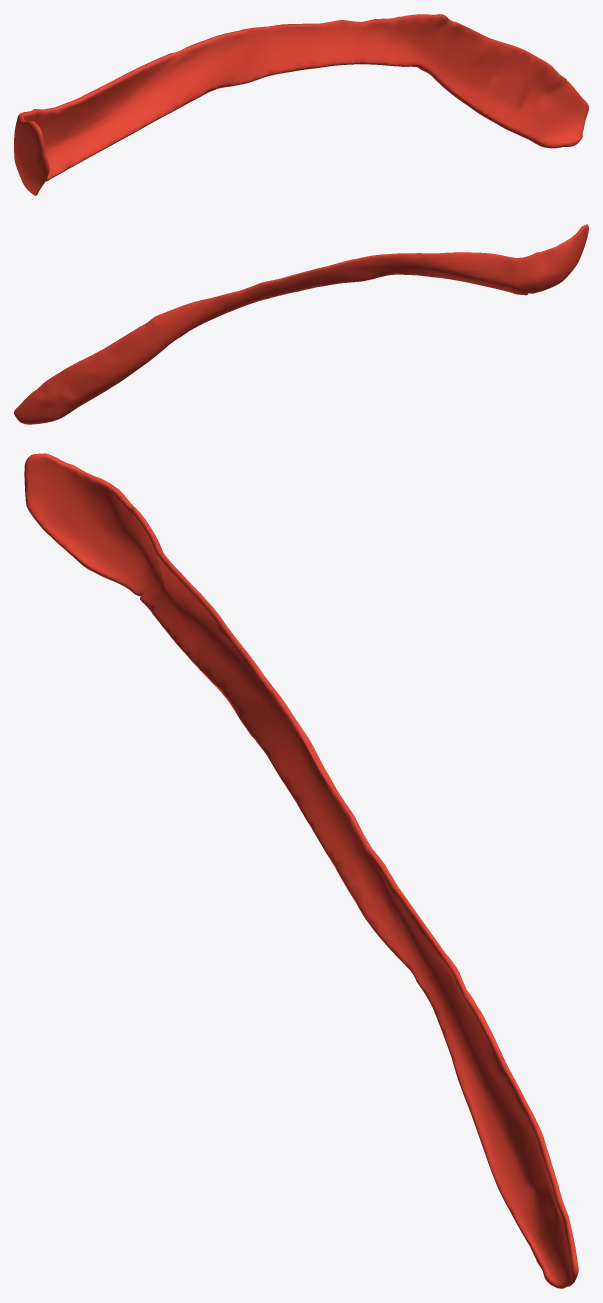
Rendered from Deltoid_scapular_head_scapular_insertion_right.glb.
3 views of the same model, one above another, from view 1: azimuth 30°, elevation 25°; view 2: azimuth 150°, elevation 25°; view 3: azimuth 270°, elevation 25° (orthographic). The views are drawn at different scales.
Parts seen in each view (by area): view 1: Scapular_head_of_deltoid_muscle-Scapular_insertion.r_Generat; view 2: Scapular_head_of_deltoid_muscle-Scapular_insertion.r_Generat; view 3: Scapular_head_of_deltoid_muscle-Scapular_insertion.r_Generat.
Boxes of the visible parts, bbox=[...] form: Scapular_head_of_deltoid_muscle-Scapular_insertion.r_Generat: bbox=[14, 14, 588, 195]; Scapular_head_of_deltoid_muscle-Scapular_insertion.r_Generat: bbox=[14, 224, 588, 424]; Scapular_head_of_deltoid_muscle-Scapular_insertion.r_Generat: bbox=[24, 453, 578, 1288].
Size of the model in its own units: 0.0763 by 0.0347 by 0.0418.
